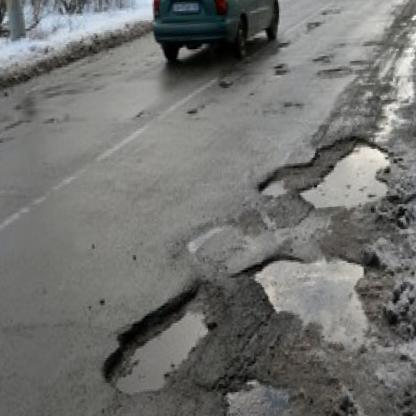pothole: (95, 276, 222, 399), (244, 250, 371, 357), (253, 131, 395, 216)
